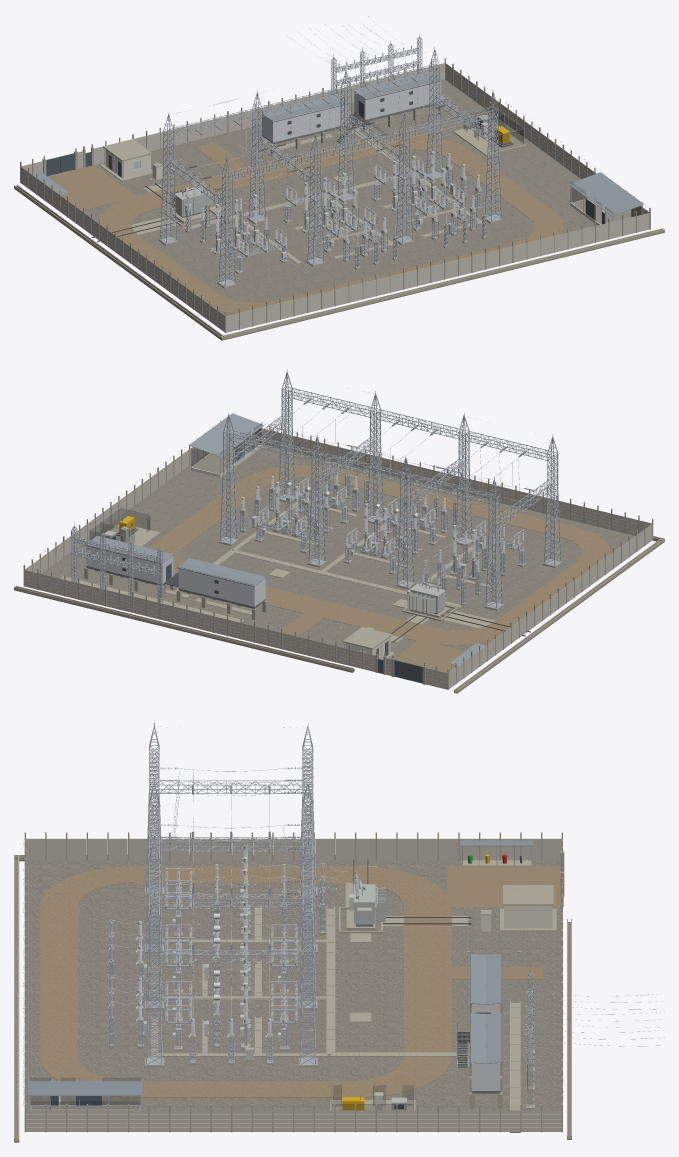
The model's file is ypg_tablero.glb.
3 renders of one model, top to bottom at view 1: azimuth 30°, elevation 25°; view 2: azimuth 150°, elevation 25°; view 3: azimuth 270°, elevation 25°, orthographic. The views are drawn at different scales.
Bounding box in the file's own units: 69.94 × 20.82 × 67.87.
Materials: 33 (7 with a texture image).
